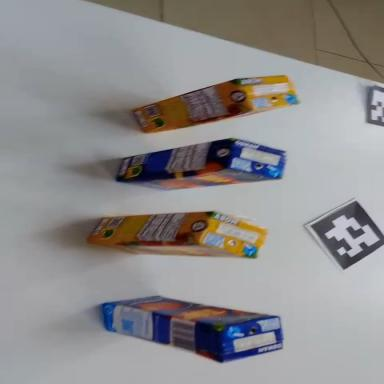HIT-MANGO: (95, 287, 287, 373), (113, 133, 288, 195)
HIT-MORA: (130, 66, 298, 140), (87, 205, 268, 261)
cara_F: (109, 288, 278, 336), (117, 162, 281, 196), (89, 243, 253, 259)
